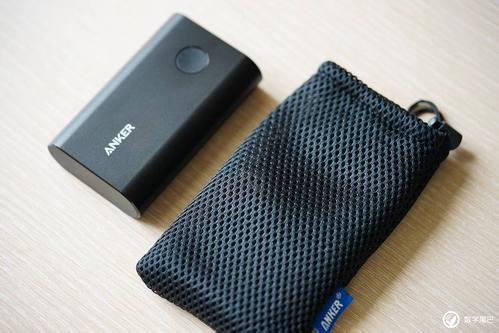flexible: (133, 60, 472, 333)
